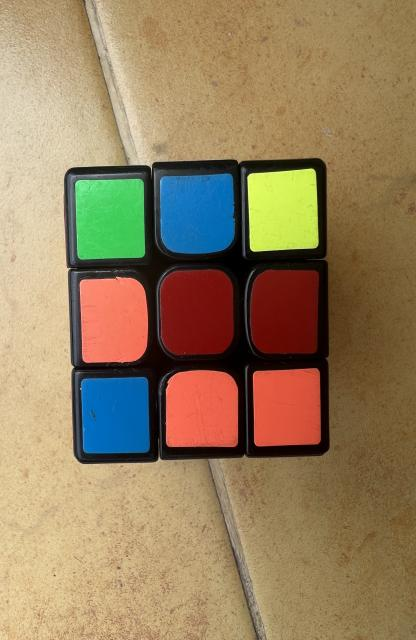Blue: (160, 174, 235, 254), (81, 378, 150, 454)
Green: (75, 179, 145, 260)
Orange: (79, 276, 148, 362), (166, 370, 238, 448), (252, 369, 321, 446)
Red: (160, 270, 234, 355), (250, 270, 320, 354)
Yellow: (247, 169, 318, 251)
